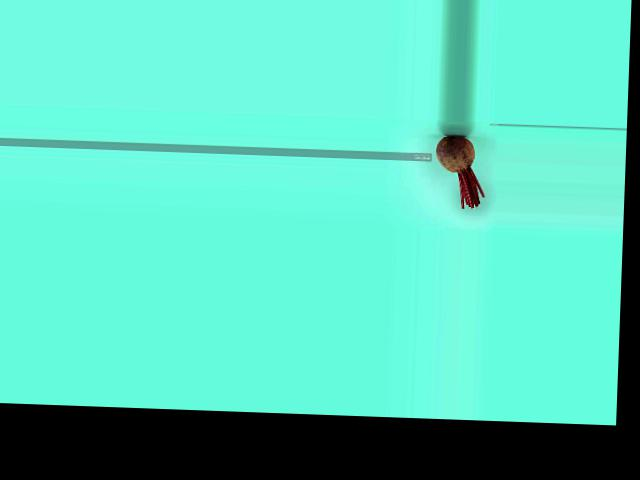beet: (433, 134, 486, 209)
